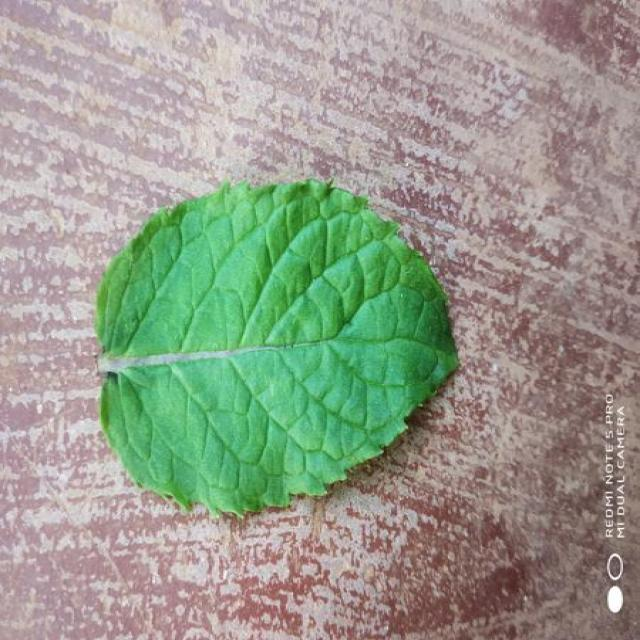mint: (97, 180, 458, 514), (97, 181, 457, 514)
